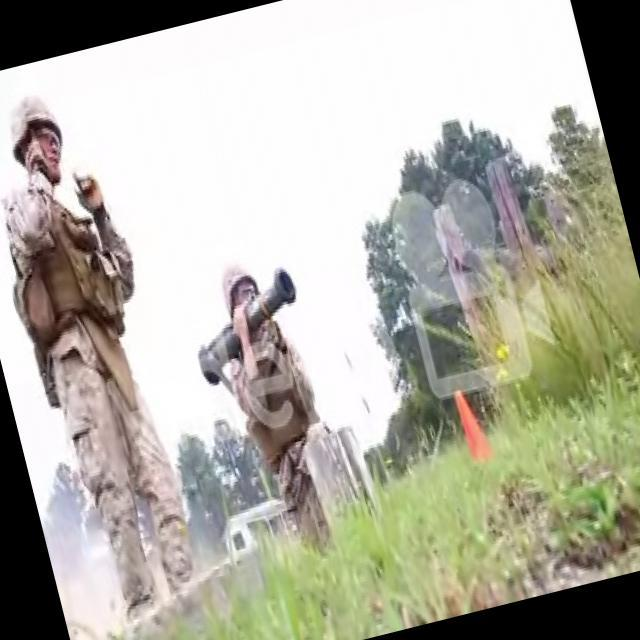rocket: (180, 264, 312, 394)
